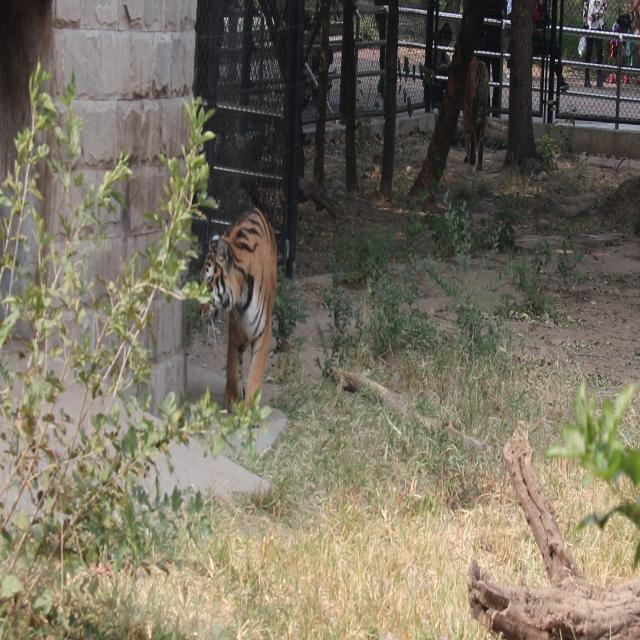Tiger: (192, 189, 284, 421), (453, 54, 496, 174)
